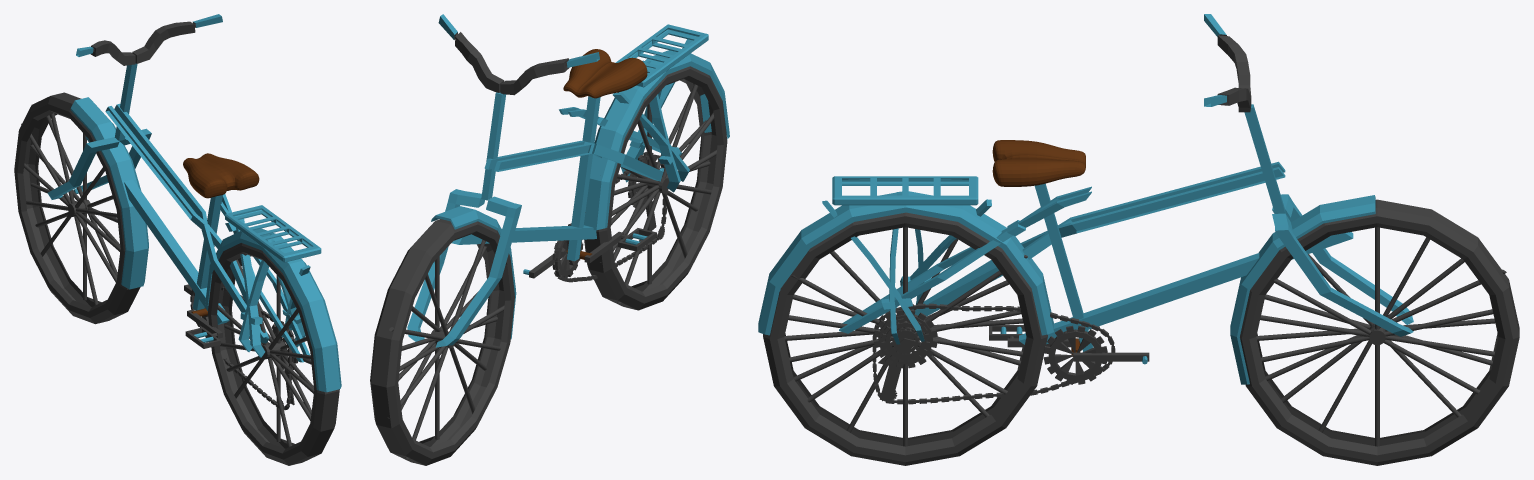
Rendered from bicycle.fbx.
3 views of the same model, side by side, from view 1: azimuth 30°, elevation 25°; view 2: azimuth 150°, elevation 25°; view 3: azimuth 270°, elevation 25° (orthographic). The views are drawn at different scales.
Parts seen in each view (by area): view 1: Cylinder.034, Cylinder.046, Cylinder.059, Cylinder.058, Cube.136, Cube.202, bicycle, Cube.135, Cube.200, Cube.201, Cube.139, Cube.210 (+18 smaller); view 2: Cylinder.034, Cylinder.046, Cylinder.059, Cube.139, bicycle, Cube.136, Cube.200, Cube.202, Cube.137, Cube.201, Cube.135, Cube.138 (+21 smaller); view 3: Cylinder.034, Cylinder.046, Cylinder.059, Cube.136, Cube.139, Cube.135, Cylinder.058, bicycle, Cube.210, Cube.202, Cylinder.060, Cube.208 (+25 smaller).
Boxes of the visible parts, x1,y1,x2,y2 form: Cylinder.034: [14, 92, 140, 324]; Cylinder.046: [208, 243, 339, 465]; Cylinder.059: [205, 228, 341, 392]; Cylinder.058: [70, 97, 148, 289]; Cube.136: [105, 103, 269, 343]; Cube.202: [225, 205, 321, 262]; bicycle: [183, 153, 259, 198]; Cube.135: [85, 136, 229, 324]; Cube.200: [76, 14, 222, 65]; Cube.201: [236, 218, 273, 357]; Cube.139: [47, 128, 151, 199]; Cube.210: [220, 194, 310, 362]; Cylinder.034: [370, 219, 514, 465]; Cylinder.046: [584, 66, 727, 310]; Cylinder.059: [584, 50, 729, 230]; Cube.139: [407, 189, 521, 347]; bicycle: [563, 49, 647, 98]; Cube.136: [484, 140, 664, 181]; Cube.200: [438, 14, 599, 95]; Cube.202: [615, 24, 708, 87]; Cube.137: [567, 96, 600, 261]; Cube.201: [612, 60, 689, 192]; Cube.135: [451, 225, 596, 244]; Cube.138: [481, 92, 506, 200]; Cylinder.034: [1240, 199, 1519, 465]; Cylinder.046: [763, 212, 1047, 465]; Cylinder.059: [758, 191, 1054, 335]; Cube.136: [912, 161, 1285, 316]; Cube.139: [1272, 194, 1413, 336]; Cube.135: [1019, 232, 1353, 344]; Cylinder.058: [1230, 195, 1375, 384]; bicycle: [992, 140, 1085, 186]; Cube.210: [839, 186, 1091, 333]; Cube.202: [832, 176, 978, 205]; Cylinder.060: [1043, 325, 1107, 384]; Cube.208: [872, 303, 1115, 404].
Bounding box in the file's own units: 108 × 238 × 404.
